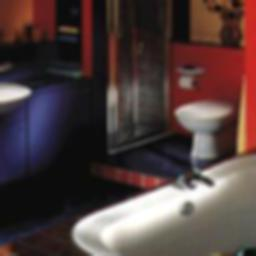Ducha: (108, 0, 173, 152)
Lavamanos: (0, 81, 32, 123)
Sanitario: (177, 95, 231, 162)
